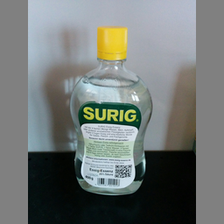vinegar: (68, 24, 152, 197)
